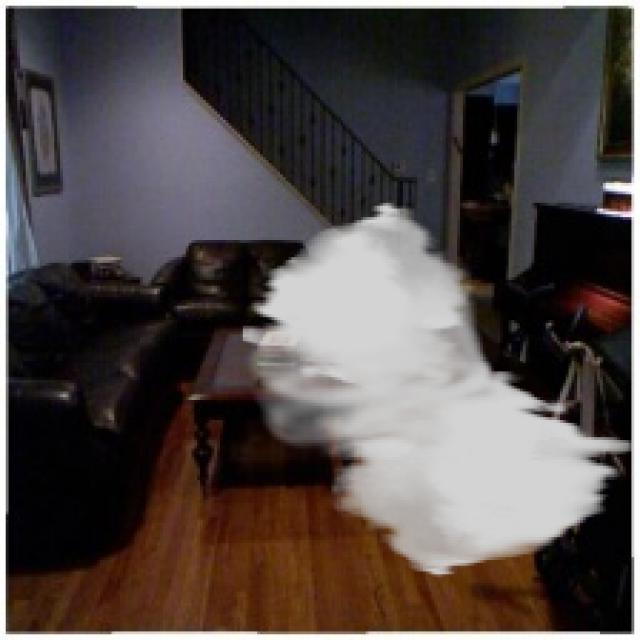Smoke: (239, 200, 632, 577)
